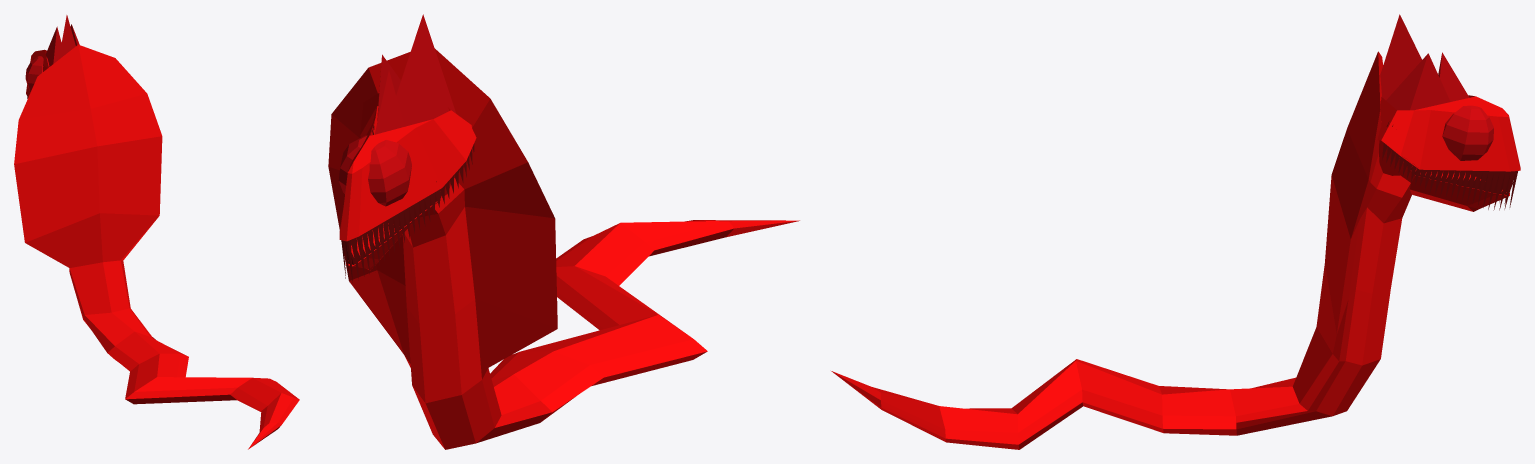
The model's file is camaleao.João.fbx.
3 views of the same model, side by side, from view 1: azimuth 30°, elevation 25°; view 2: azimuth 150°, elevation 25°; view 3: azimuth 270°, elevation 25° (orthographic). The views are drawn at different scales.
Visible parts, largest first — view 1: Cylinder.002; view 2: Cylinder.002; view 3: Cylinder.002.
Part boxes in pixels (x1=…): Cylinder.002: x1=14, y1=15, x2=299, y2=449; Cylinder.002: x1=328, y1=14, x2=799, y2=449; Cylinder.002: x1=831, y1=14, x2=1520, y2=449.
Size of the model in its own units: 586 by 1169 by 1770.
